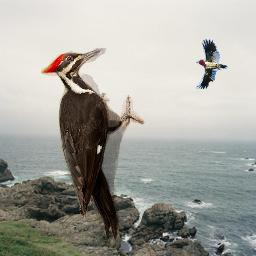Woodpecker: (41, 48, 145, 243), (196, 39, 228, 89)
